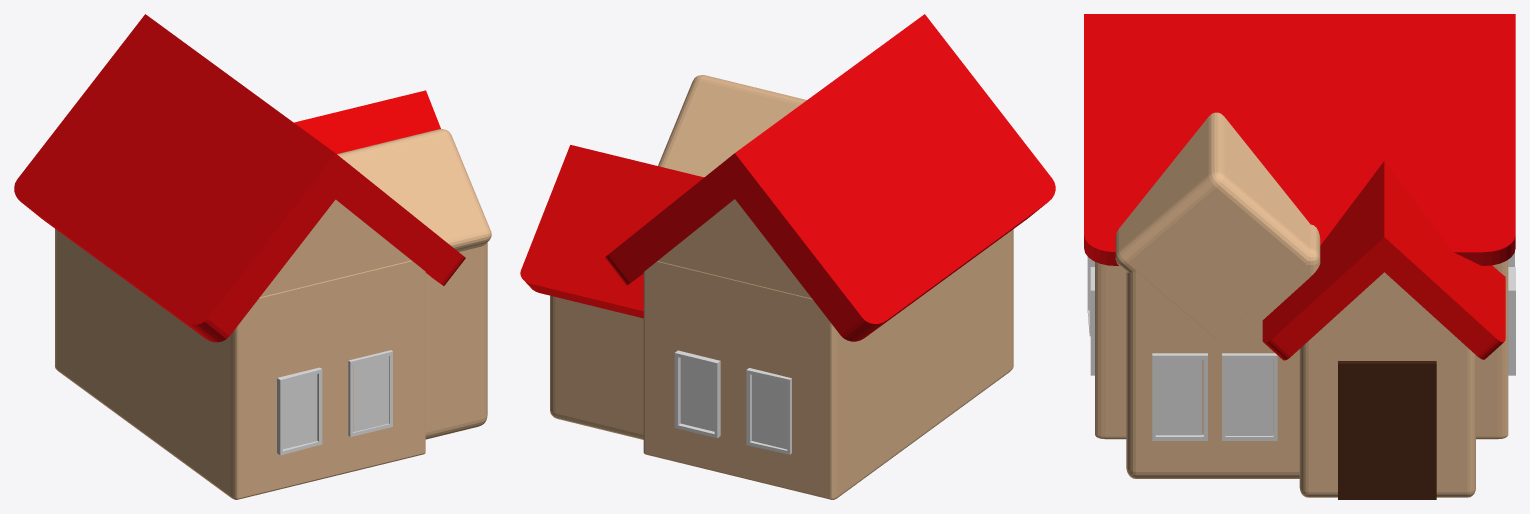
File: tree.fbx
3 views of the same model, side by side, from view 1: azimuth 30°, elevation 25°; view 2: azimuth 150°, elevation 25°; view 3: azimuth 270°, elevation 25° (orthographic). The views are drawn at different scales.
Visible parts, largest first — view 1: Cube.003, Cube.005, Cube.002, Cube.006, Plane.011, Plane.012, Cube.046, Cube.047; view 2: Cube.003, Cube.005, Cube.006, Cube.001, Cube.002, Plane.010, Plane.009, Cube.049, Cube.048; view 3: Cube.003, Cube.002, Cube.006, Cube.001, Cube, Cube.005, Plane.013, Plane.014, Cube.030, Cube.040, Cube.049, Cube.047.
Part boxes in pixels (bbox=[...]): Cube.003: bbox=[14, 14, 465, 342]; Cube.005: bbox=[55, 199, 425, 499]; Cube.002: bbox=[337, 129, 491, 439]; Cube.006: bbox=[294, 90, 440, 153]; Plane.011: bbox=[353, 356, 388, 432]; Plane.012: bbox=[283, 374, 317, 449]; Cube.046: bbox=[277, 367, 322, 455]; Cube.047: bbox=[348, 350, 392, 436]; Cube.003: bbox=[605, 14, 1055, 341]; Cube.005: bbox=[643, 199, 1013, 499]; Cube.006: bbox=[520, 145, 703, 318]; Cube.001: bbox=[550, 295, 643, 439]; Cube.002: bbox=[658, 75, 806, 177]; Plane.010: bbox=[752, 375, 787, 449]; Plane.009: bbox=[680, 358, 714, 431]; Cube.049: bbox=[674, 350, 720, 438]; Cube.048: bbox=[746, 368, 791, 454]; Cube.003: bbox=[1084, 14, 1515, 265]; Cube.002: bbox=[1115, 112, 1320, 478]; Cube.006: bbox=[1262, 161, 1505, 360]; Cube.001: bbox=[1299, 272, 1475, 497]; Cube: bbox=[1338, 361, 1436, 499]; Cube.005: bbox=[1095, 260, 1508, 439]; Plane.013: bbox=[1225, 359, 1272, 435]; Plane.014: bbox=[1155, 359, 1202, 435]; Cube.030: bbox=[1152, 353, 1207, 440]; Cube.040: bbox=[1222, 353, 1277, 440]; Cube.049: bbox=[1508, 267, 1515, 375]; Cube.047: bbox=[1090, 267, 1094, 375].
Size of the model in its own units: 677 by 592 by 620.
